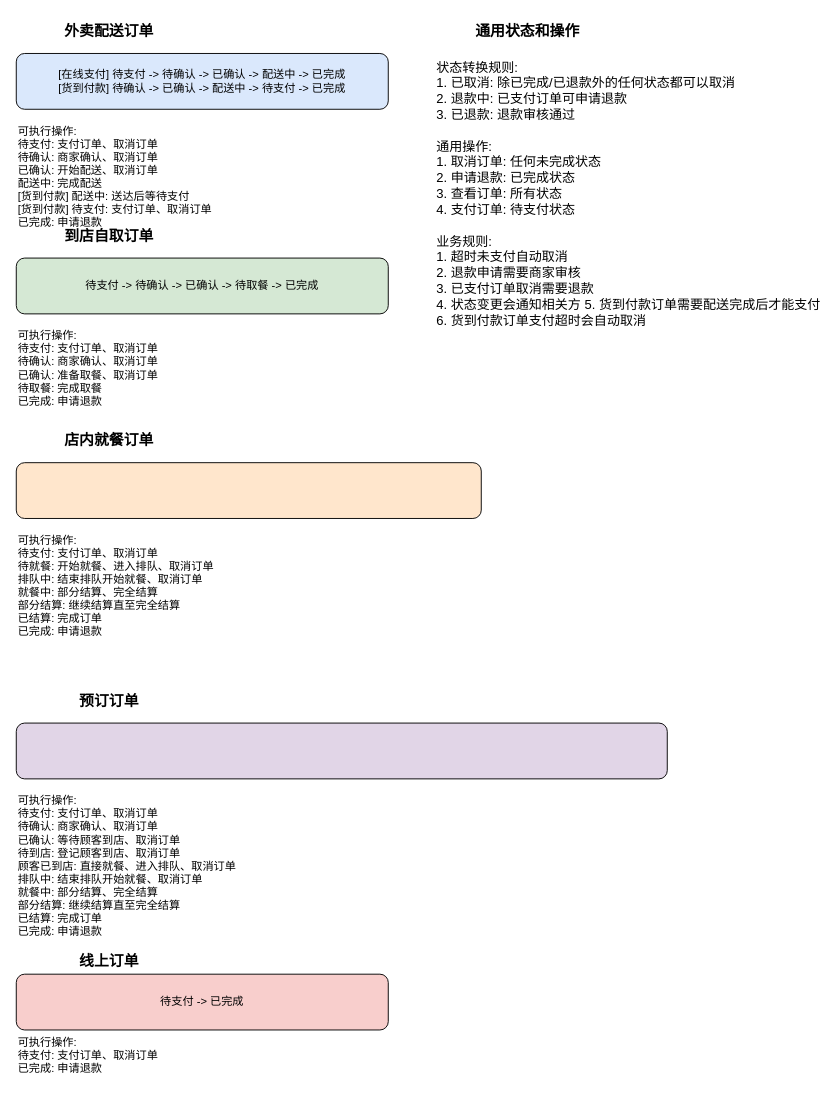
Image size: 837x1101. Some labels were removed from this diagram. Each missing label, with the box of its shape:
待支付 -> 待就餐 -> [排队中] -> 就餐中 -> 部分结算/已结算 -> 已完成: (15, 462, 481, 518)
待支付 -> 待确认 -> 已确认 -> 待到店 -> 顾客已到店 -> (就餐中 | [排队中] -> 就餐中) -> 部分结算/已结算 -> 已完成: (15, 722, 667, 779)
